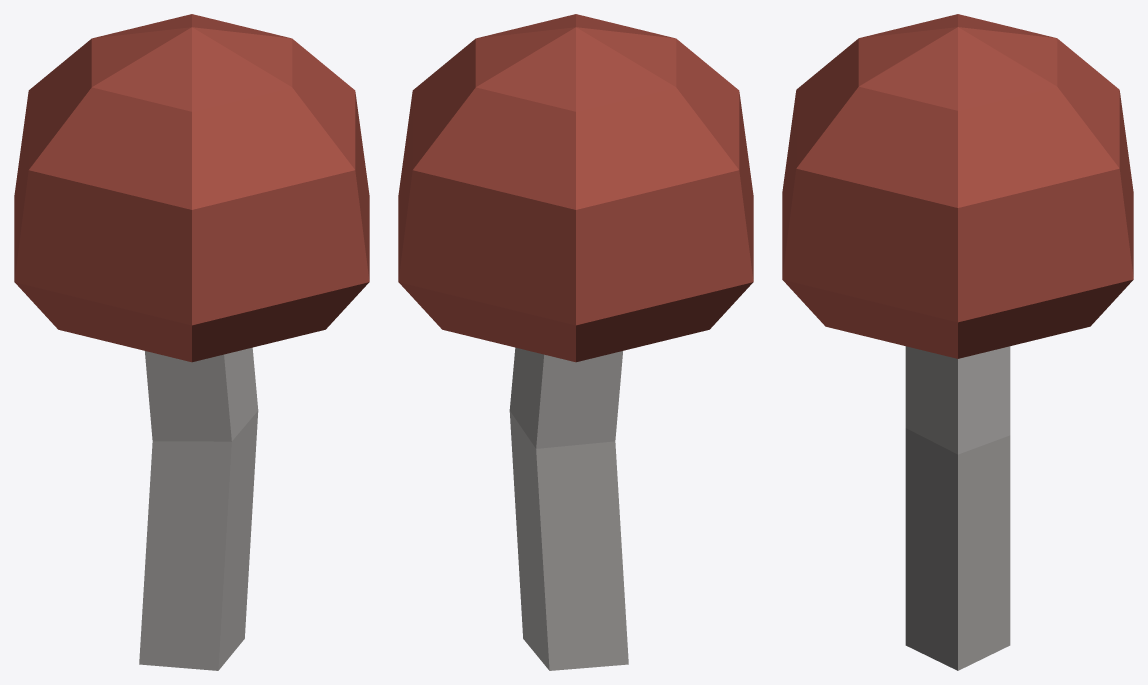
The model's file is SM_Prop_Mushroom_04.fbx.
3 renders of one model, left to right at view 1: azimuth 30°, elevation 25°; view 2: azimuth 150°, elevation 25°; view 3: azimuth 270°, elevation 25°, orthographic.
Visible parts, largest first — view 1: SM_Prop_Mushroom_04; view 2: SM_Prop_Mushroom_04; view 3: SM_Prop_Mushroom_04.
Boxes of the visible parts, bbox=[...] form: SM_Prop_Mushroom_04: bbox=[14, 14, 369, 670]; SM_Prop_Mushroom_04: bbox=[398, 14, 753, 670]; SM_Prop_Mushroom_04: bbox=[782, 14, 1133, 670].
Bounding box in the file's own units: 9.18 × 15.42 × 7.95.
Materials: 1 (1 with a texture image).
